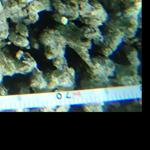dead: (1, 1, 143, 111)
